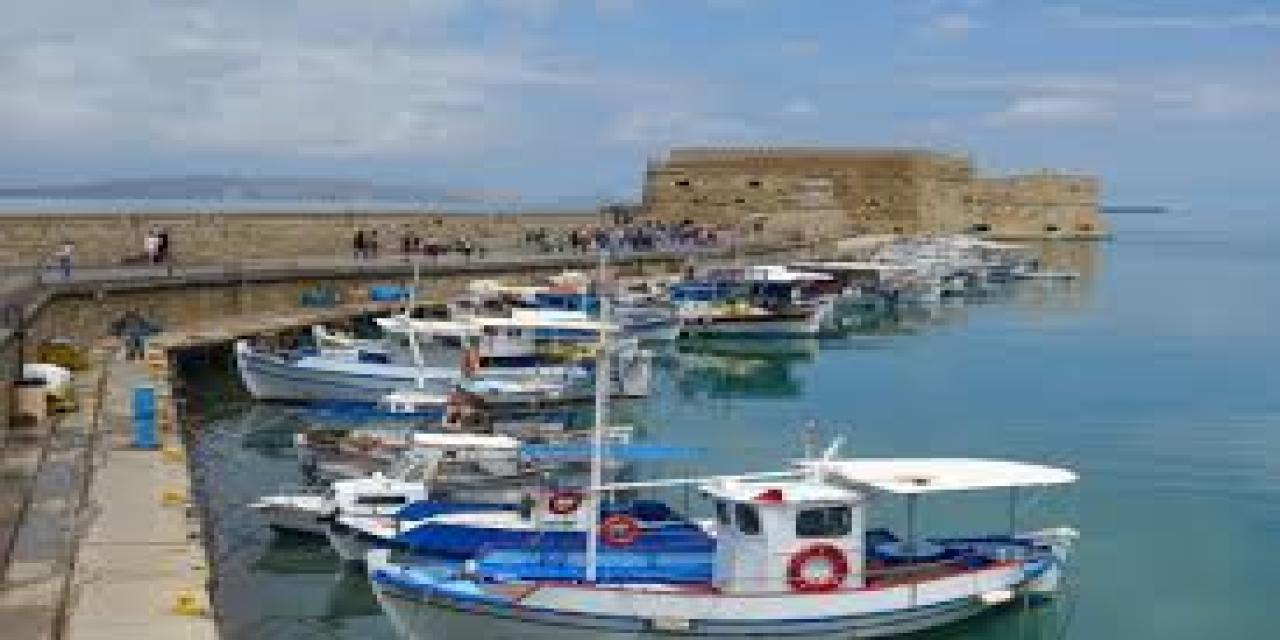Kules: (645, 117, 1116, 245)
